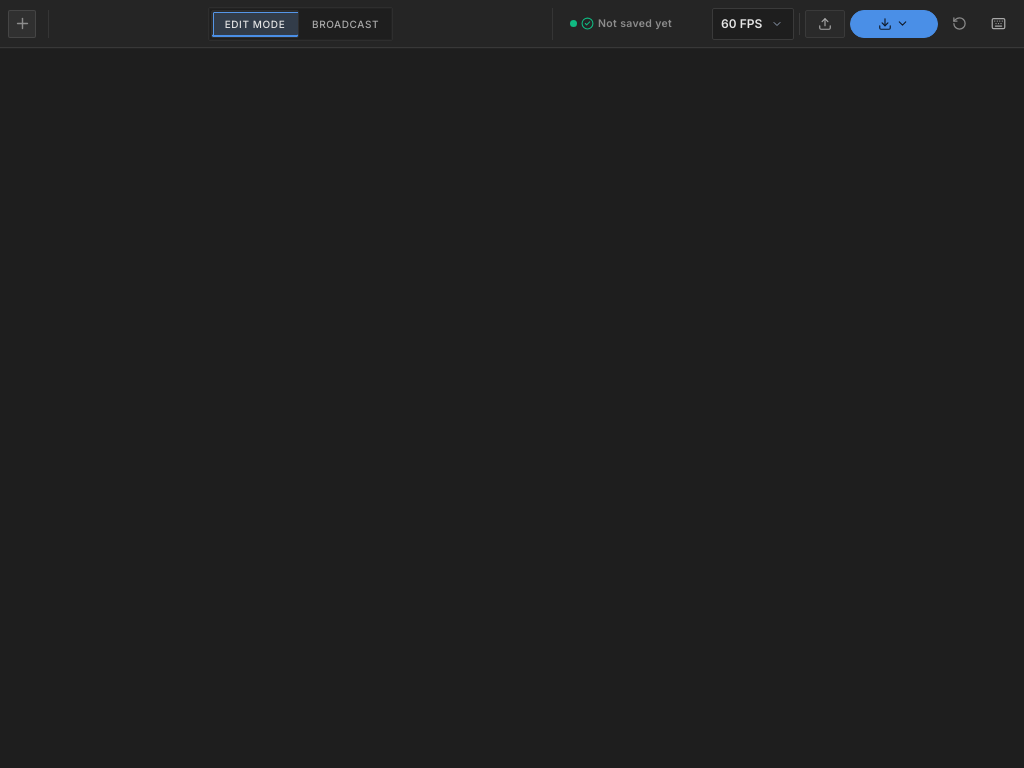
Scenario: SAFE-03-A — reset confirmation › Confirm runs the existing reset exactly once and closes the dialog
Click the button titled "Reset Canvas Project": (960, 24) [943, 10, 977, 38]
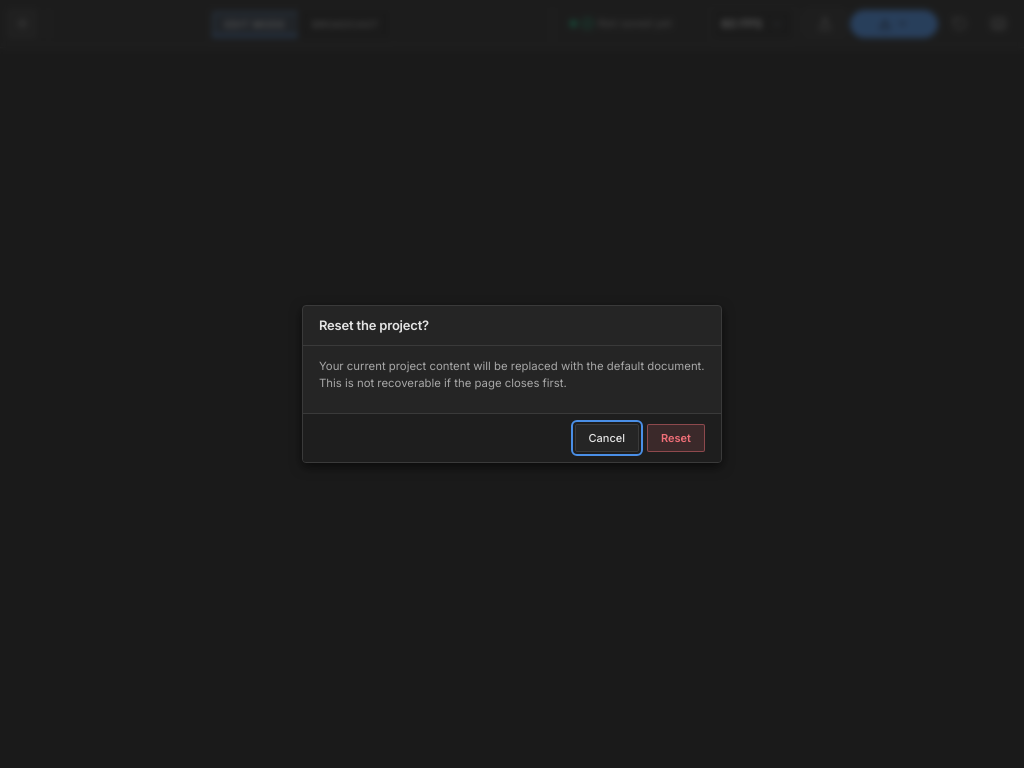
Click the button "Reset": (676, 438) [647, 424, 705, 452]
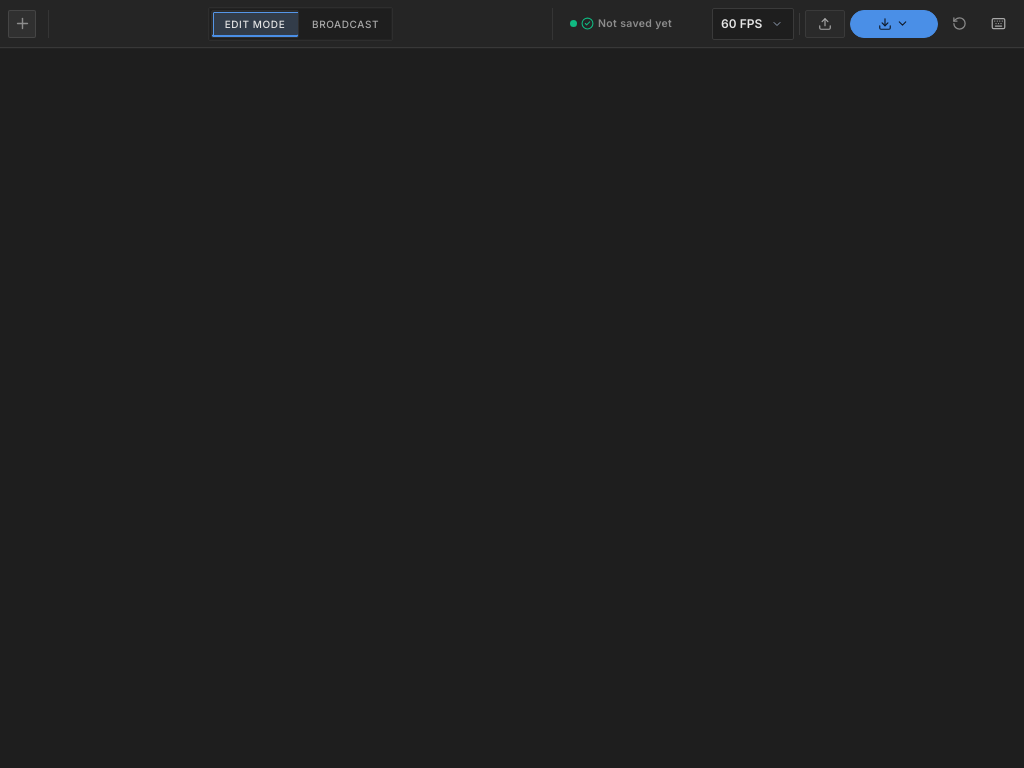
Result: the dialog is gone
